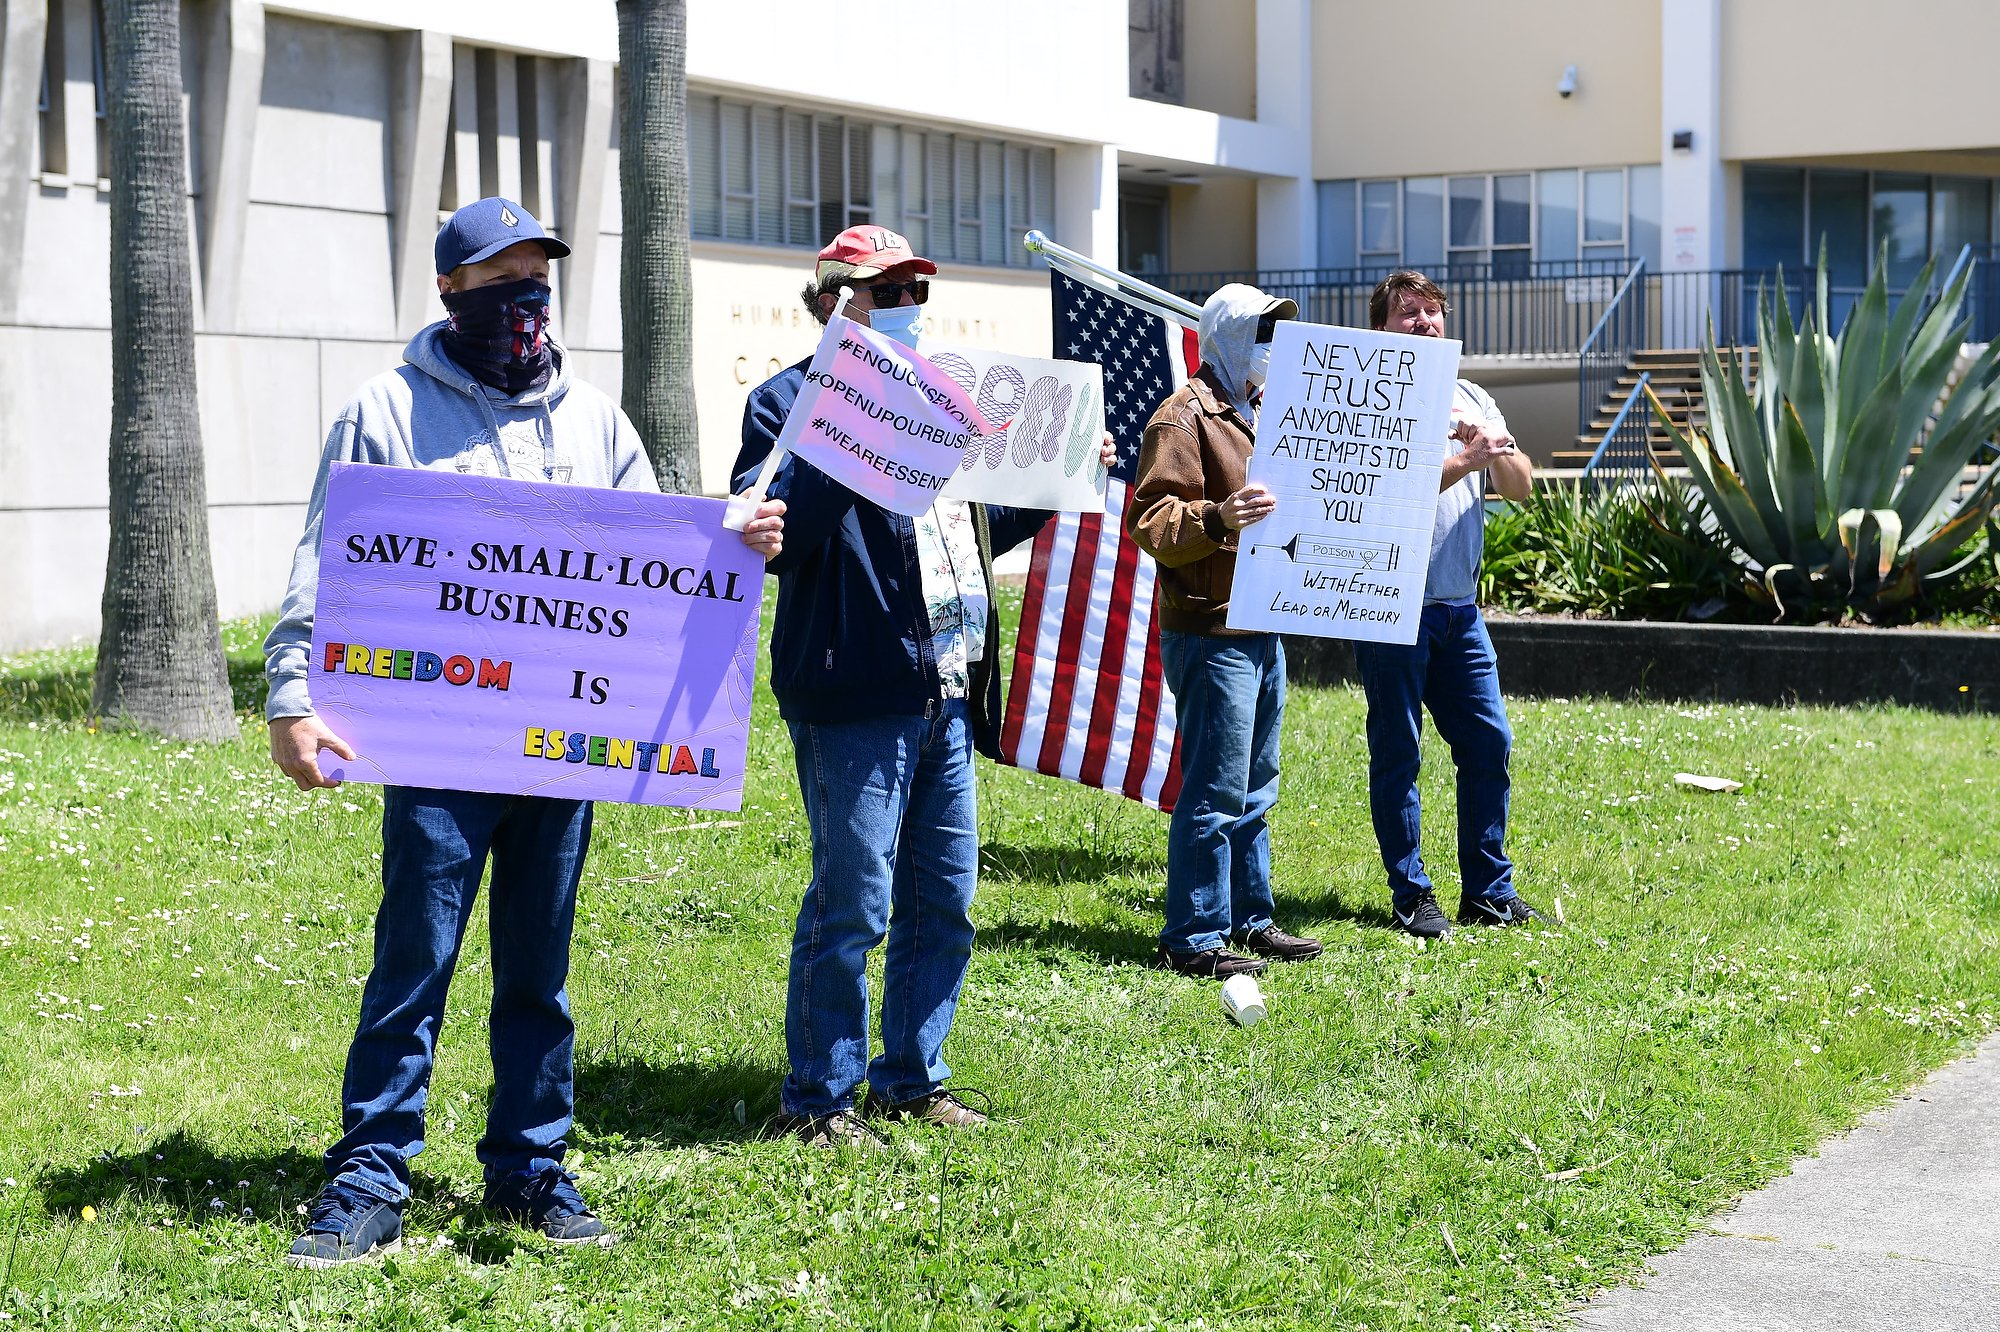Person: (265, 196, 783, 1274), (786, 226, 1005, 1143), (1127, 281, 1327, 977), (1359, 274, 1550, 935)
